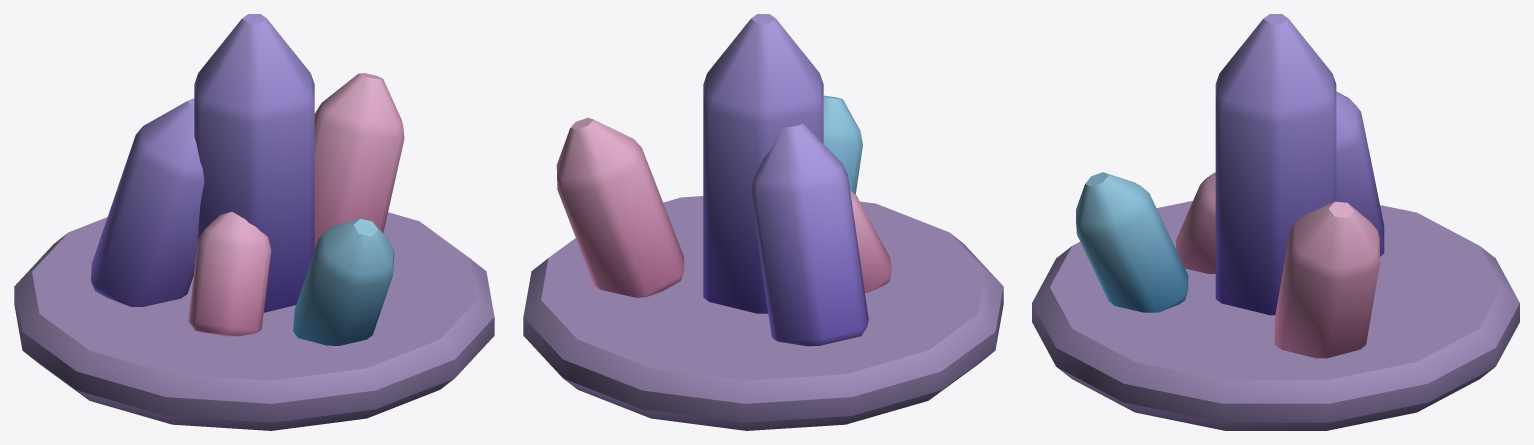
Rendered from prop_crystal_cluster.glb.
3 renders of one model, left to right at view 1: azimuth 30°, elevation 25°; view 2: azimuth 150°, elevation 25°; view 3: azimuth 270°, elevation 25°, orthographic.
Visible parts, largest first — view 1: CrystalCluster; view 2: CrystalCluster; view 3: CrystalCluster.
Part boxes in pixels (x1=…): CrystalCluster: x1=14, y1=14, x2=494, y2=430; CrystalCluster: x1=523, y1=14, x2=1003, y2=430; CrystalCluster: x1=1032, y1=14, x2=1519, y2=430.
Size of the model in its own units: 1.36 by 1.01 by 1.4.
